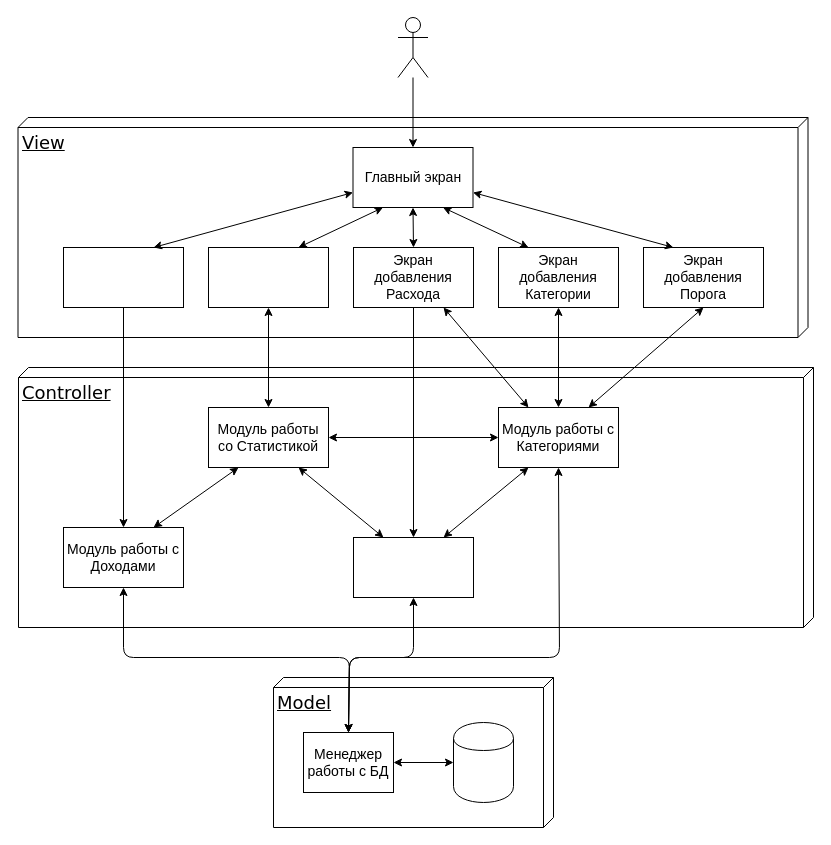
This 831x845 diagram has some shape labels left out. Each missing label, with the centre of its shape:
"База данных" belongs at (x=483, y=762).
"Модуль работы с Расходами" belongs at (x=413, y=567).
"Пользователь" belongs at (x=412, y=47).
"Экран добавления Дохода" belongs at (x=123, y=277).
"Экран статистики" belongs at (x=268, y=277).
